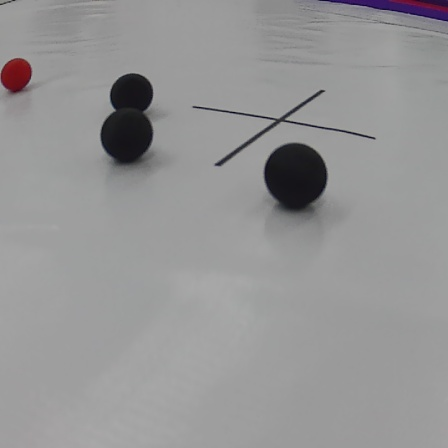black: (264, 136, 342, 213), (98, 109, 152, 164), (103, 71, 163, 113)
red: (0, 58, 32, 92)
red_aim: (310, 0, 447, 27)
